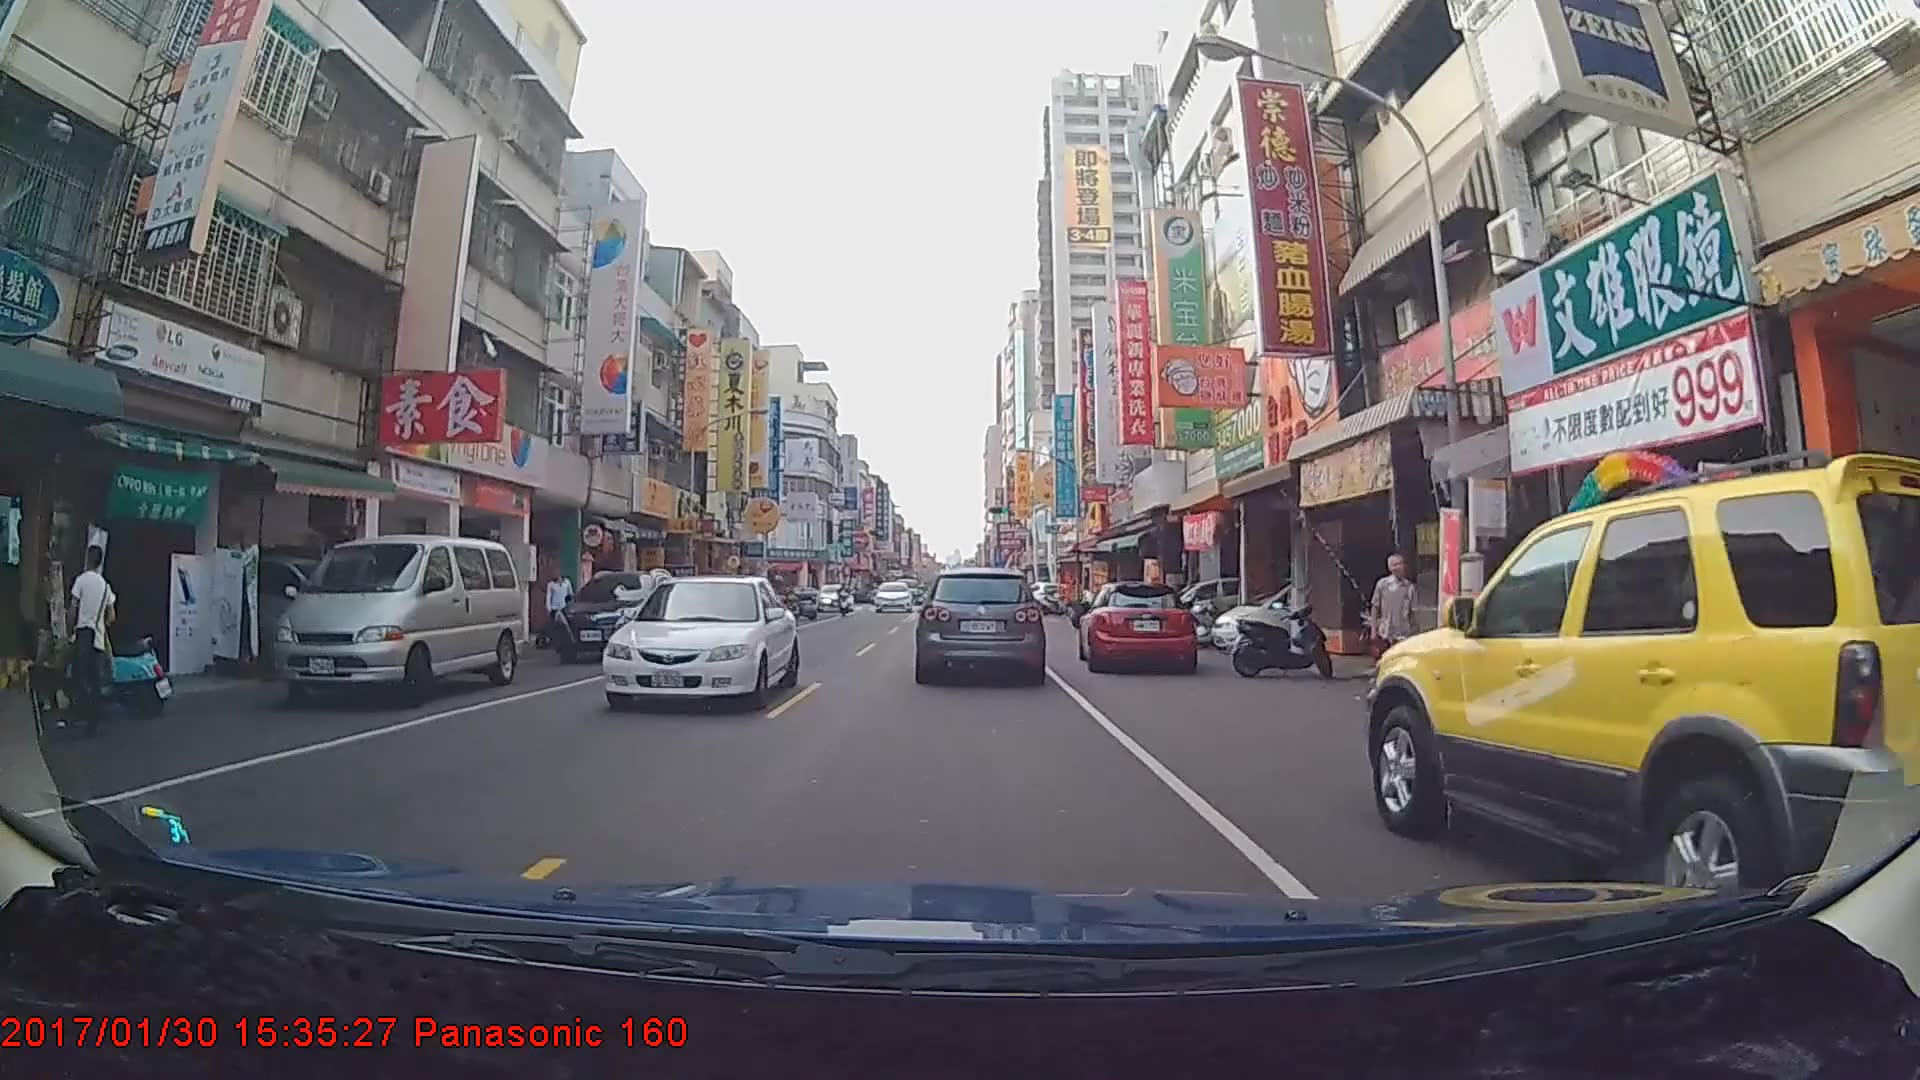pedestrian: (63, 547, 118, 741), (1369, 554, 1423, 709), (544, 570, 578, 644)
vehicle: (1367, 466, 1920, 936), (268, 533, 525, 709), (601, 572, 798, 711), (919, 565, 1042, 681), (552, 569, 683, 662), (1076, 577, 1197, 671), (871, 585, 911, 616), (816, 585, 853, 614)
